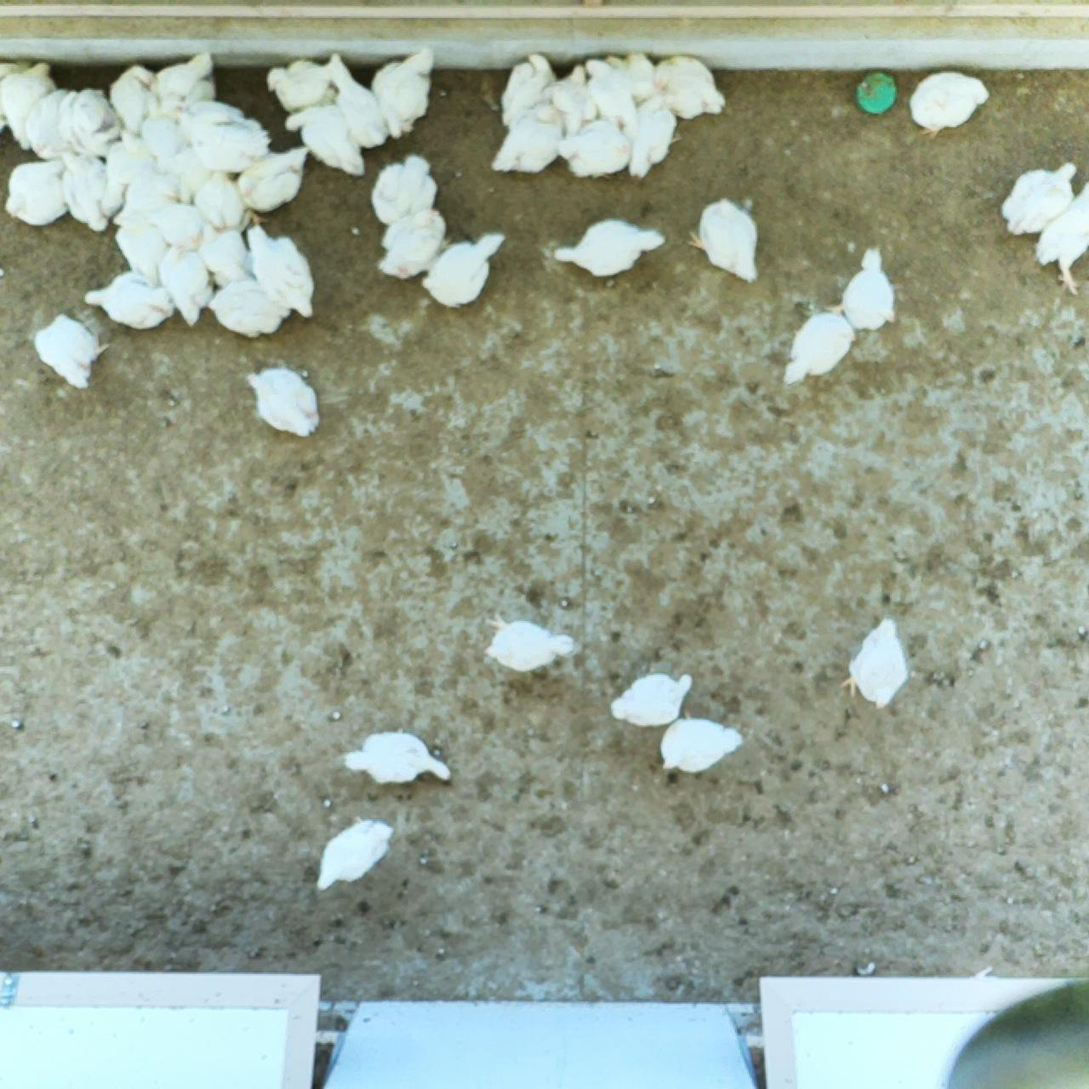chicken: (834, 614, 911, 714), (341, 725, 456, 791), (552, 215, 667, 281), (418, 229, 510, 311), (243, 222, 317, 321), (687, 194, 763, 287), (314, 812, 398, 895), (1031, 179, 1089, 297), (28, 311, 111, 393), (480, 608, 578, 676), (656, 706, 748, 778), (824, 244, 900, 331), (370, 42, 437, 140), (999, 157, 1080, 237), (326, 50, 390, 150), (281, 103, 366, 177), (906, 69, 991, 143), (779, 312, 857, 390), (243, 365, 324, 440), (83, 269, 177, 333), (55, 138, 117, 235), (485, 100, 562, 177), (374, 207, 453, 280), (606, 668, 698, 730), (206, 276, 293, 340), (371, 150, 440, 228), (184, 115, 272, 174), (651, 55, 729, 121), (235, 147, 314, 212), (625, 95, 683, 182), (58, 150, 118, 234), (0, 60, 55, 151), (554, 116, 631, 181), (497, 52, 559, 131), (264, 52, 336, 118), (101, 127, 153, 218), (1, 160, 70, 227), (159, 241, 212, 328), (194, 168, 263, 233), (114, 208, 171, 285), (153, 50, 218, 117), (107, 61, 165, 134), (111, 168, 184, 222), (199, 222, 257, 287), (582, 55, 637, 123), (549, 63, 599, 137), (23, 85, 66, 162), (138, 109, 185, 174), (144, 201, 205, 249), (605, 51, 658, 97), (171, 145, 210, 203), (171, 99, 245, 127)
